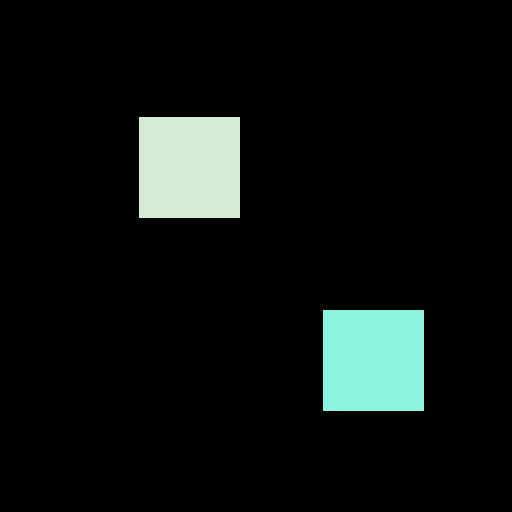square: (323, 310, 423, 410), (139, 117, 239, 217)
